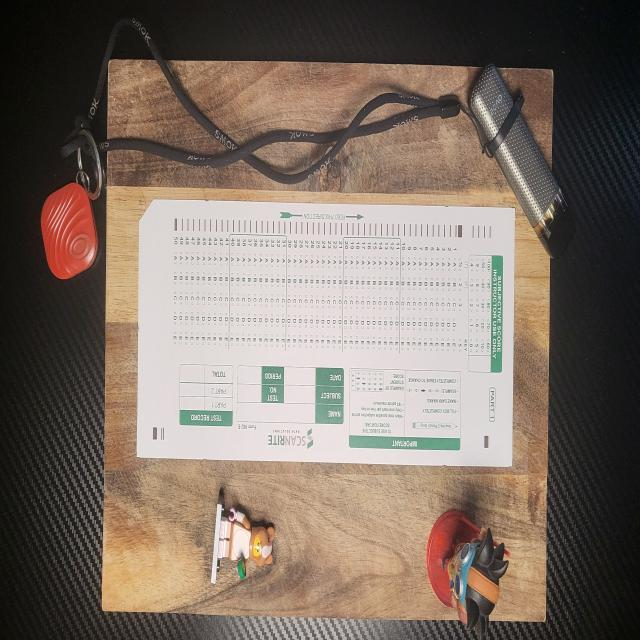scantron: (137, 199, 514, 466)
